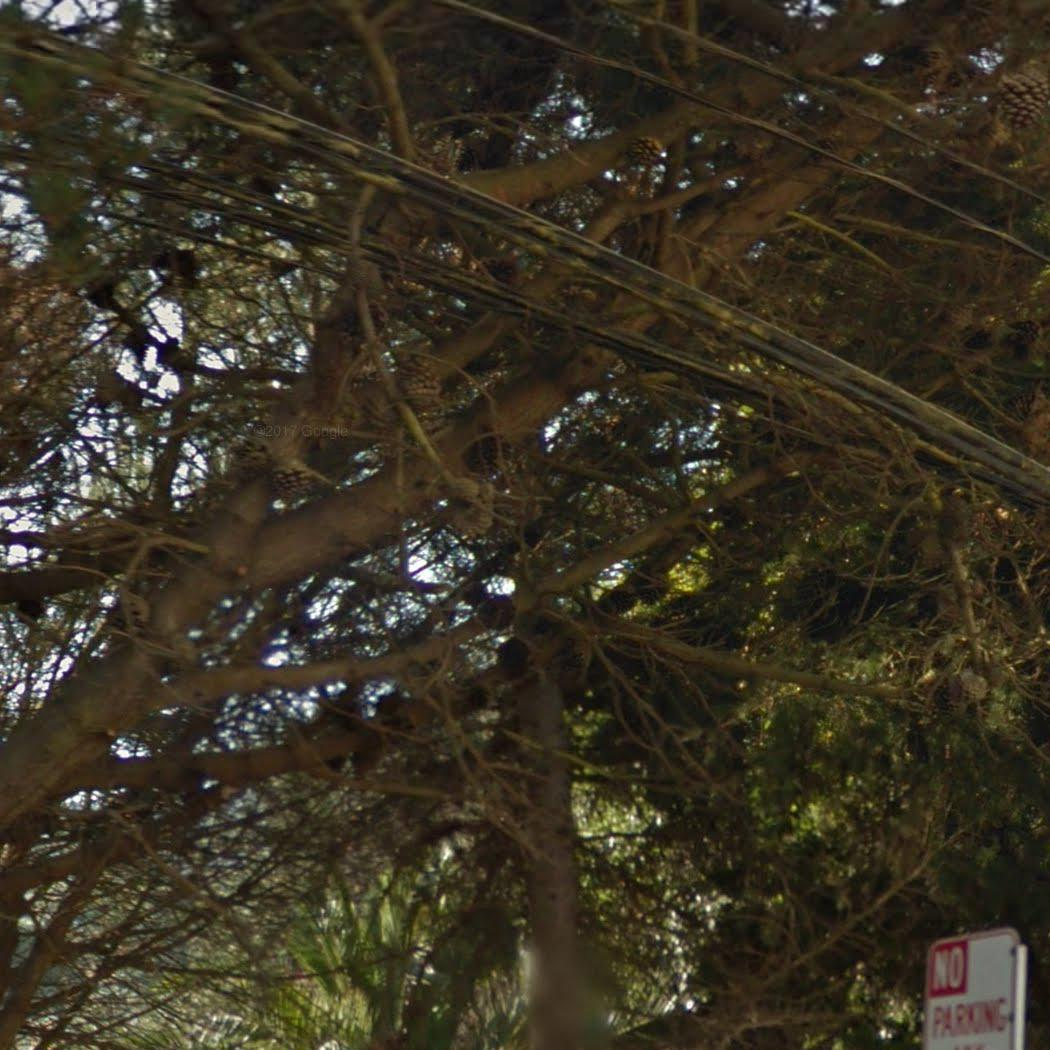No Parking: (925, 927, 1026, 1048)
